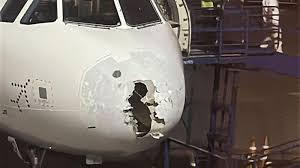Fuselage_damage: (116, 73, 166, 143)
